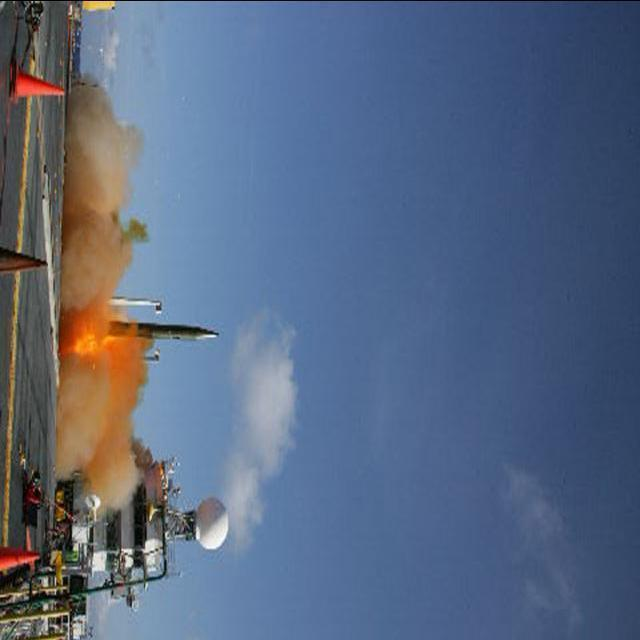missile: (100, 305, 218, 353)
